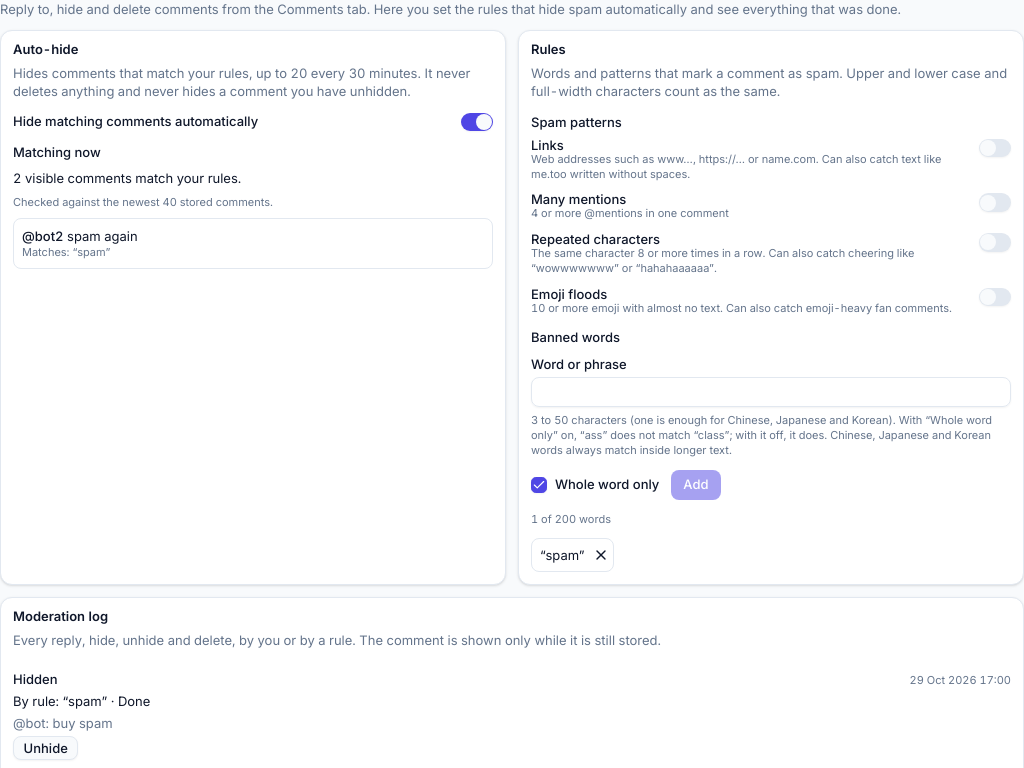
ModerationTab › auto-hide ON: adding a word first shows how many existing comments it would hide; it is saved only after the confirm
Type "cheap" into the field labelled "Word or phrase" at [771, 392], box x1=531 y1=377 x2=1011 y2=407
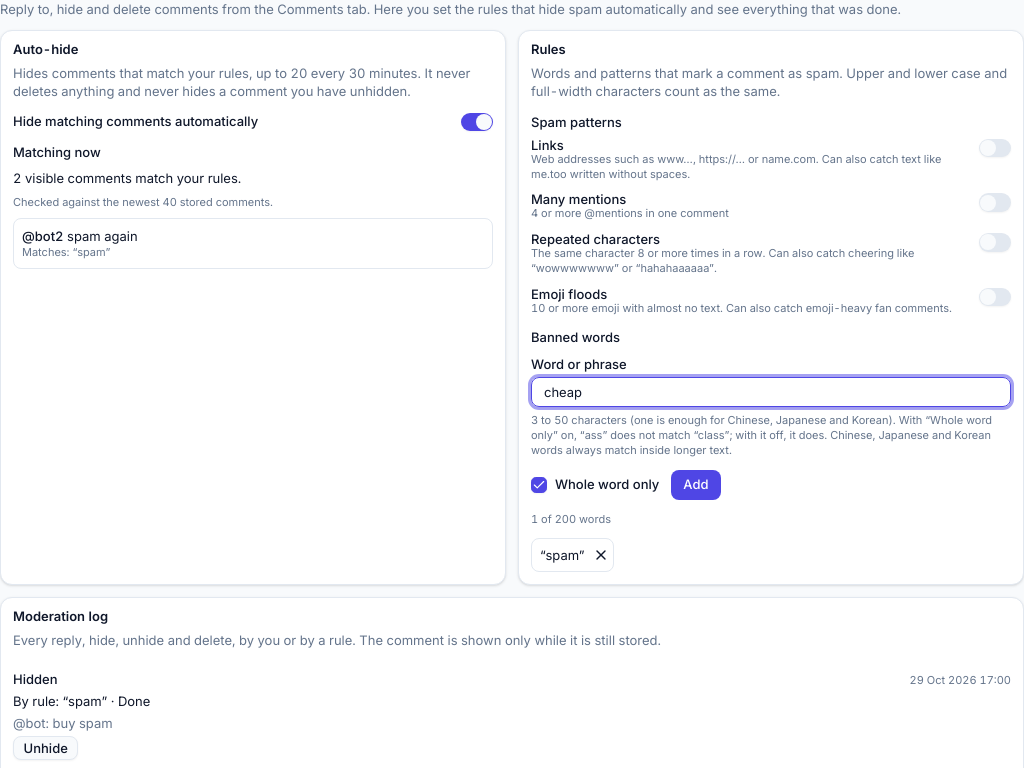
Click the button "Add" at [696, 484], box x1=671 y1=470 x2=721 y2=500
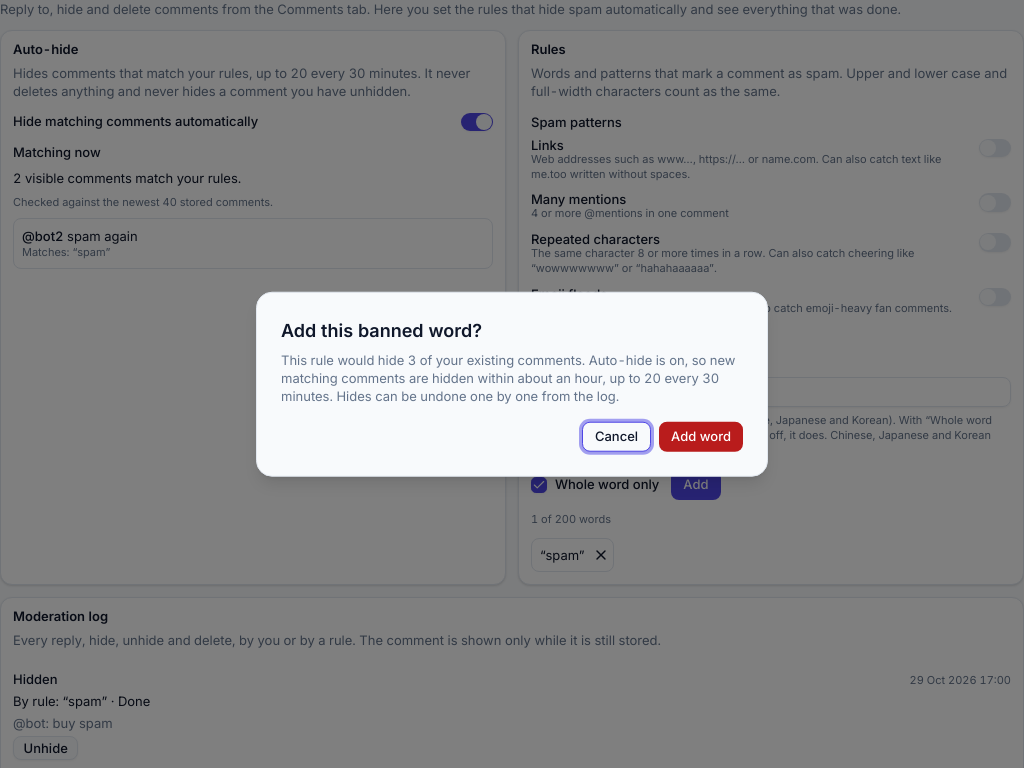
Now the dialog "Add this banned word?" shows "This rule would hide 3 of your existing comments.", box x1=281 y1=352 x2=736 y2=404
Click the button "Add word" at [701, 436], box x1=659 y1=421 x2=743 y2=451
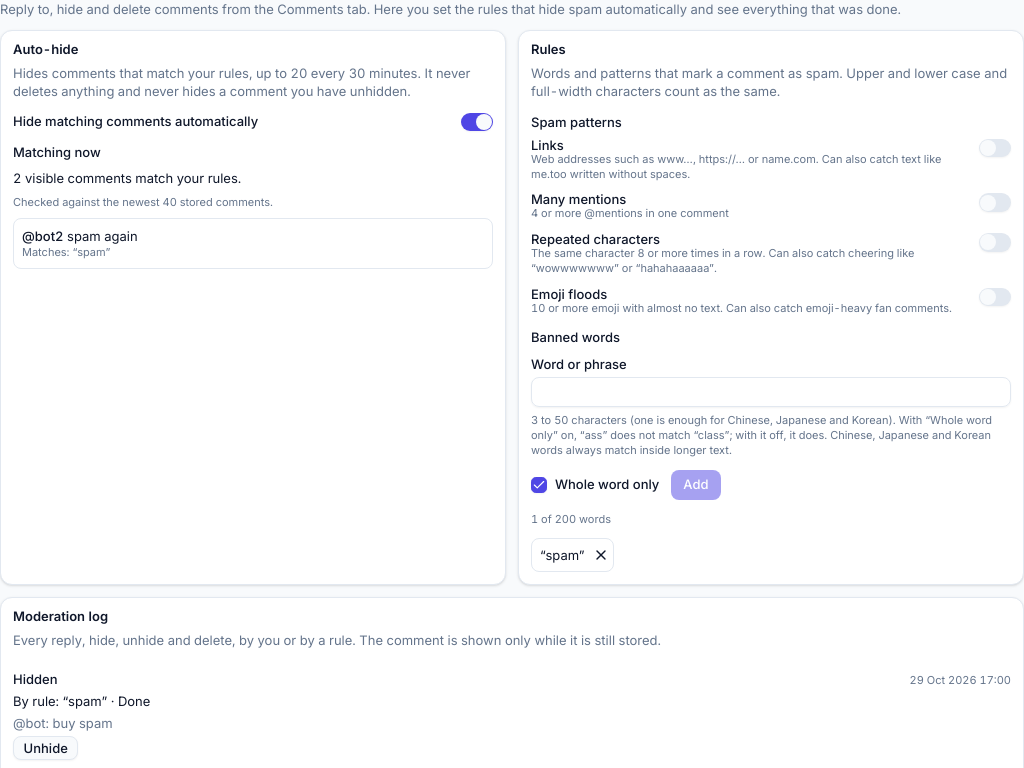
Now the dialog is gone
